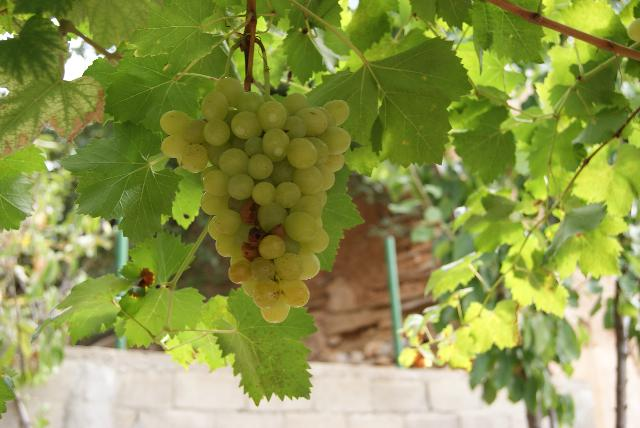grapes: (160, 76, 351, 324)
